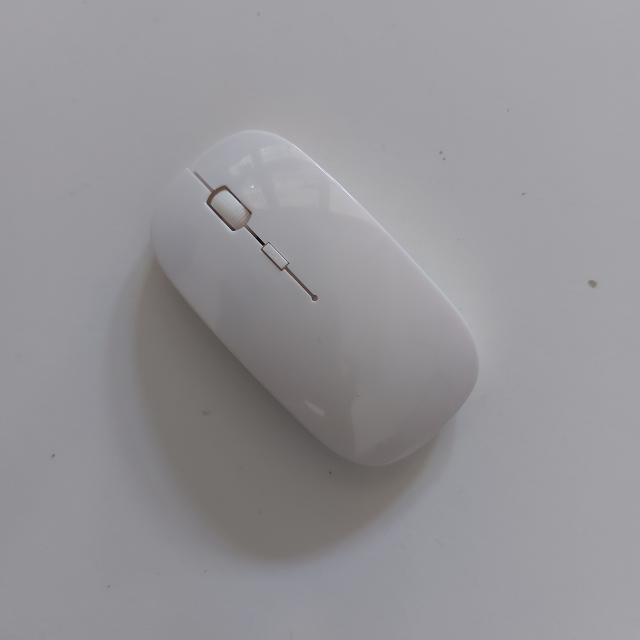Anorganik: (143, 128, 481, 476)
